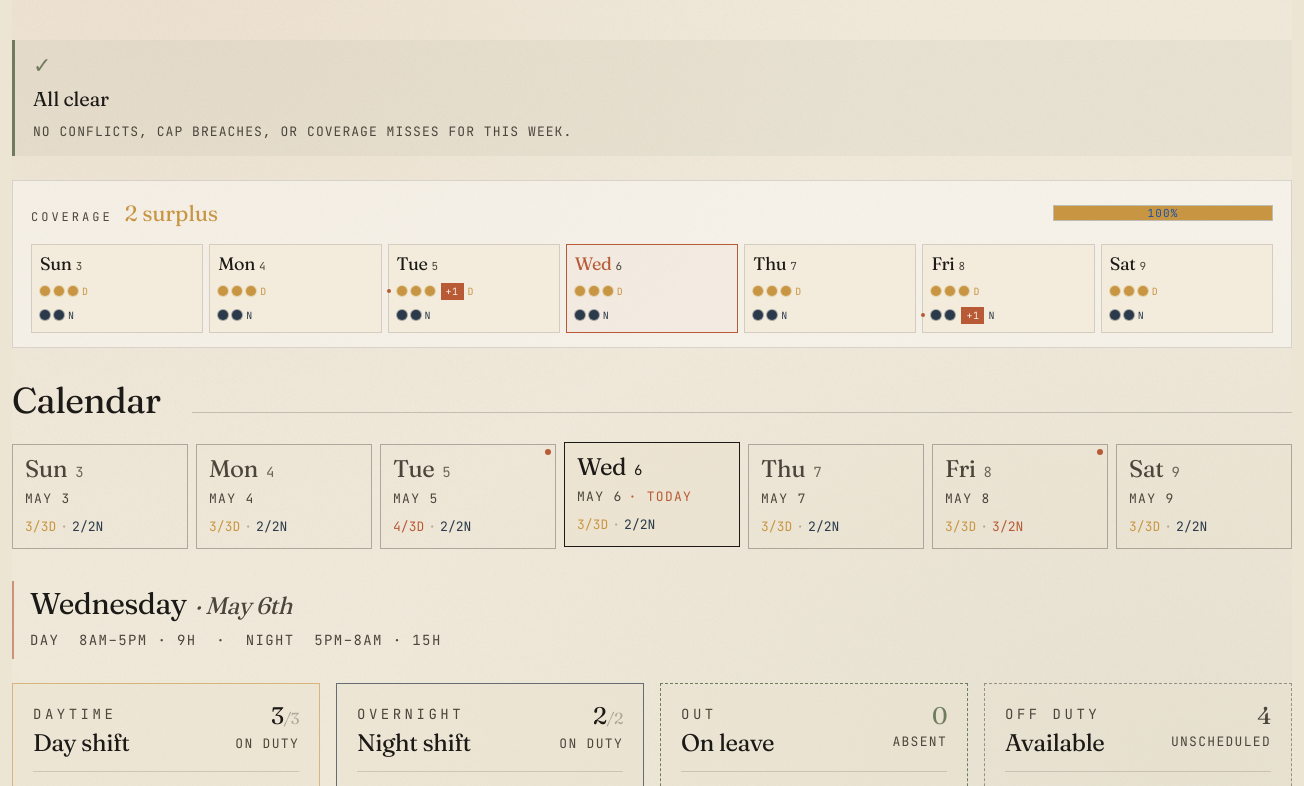
Test: <CalendarPanel /> › clicking a day in the strip switches the detail view
Default selects today (or Mon if no match). Click Friday.
What coordinates should you click on to do the following:
click the button "Fri 8 D +1 N"
I would click on:
 (1009, 288)
Its box is top-left (922, 244), bottom-right (1095, 333).
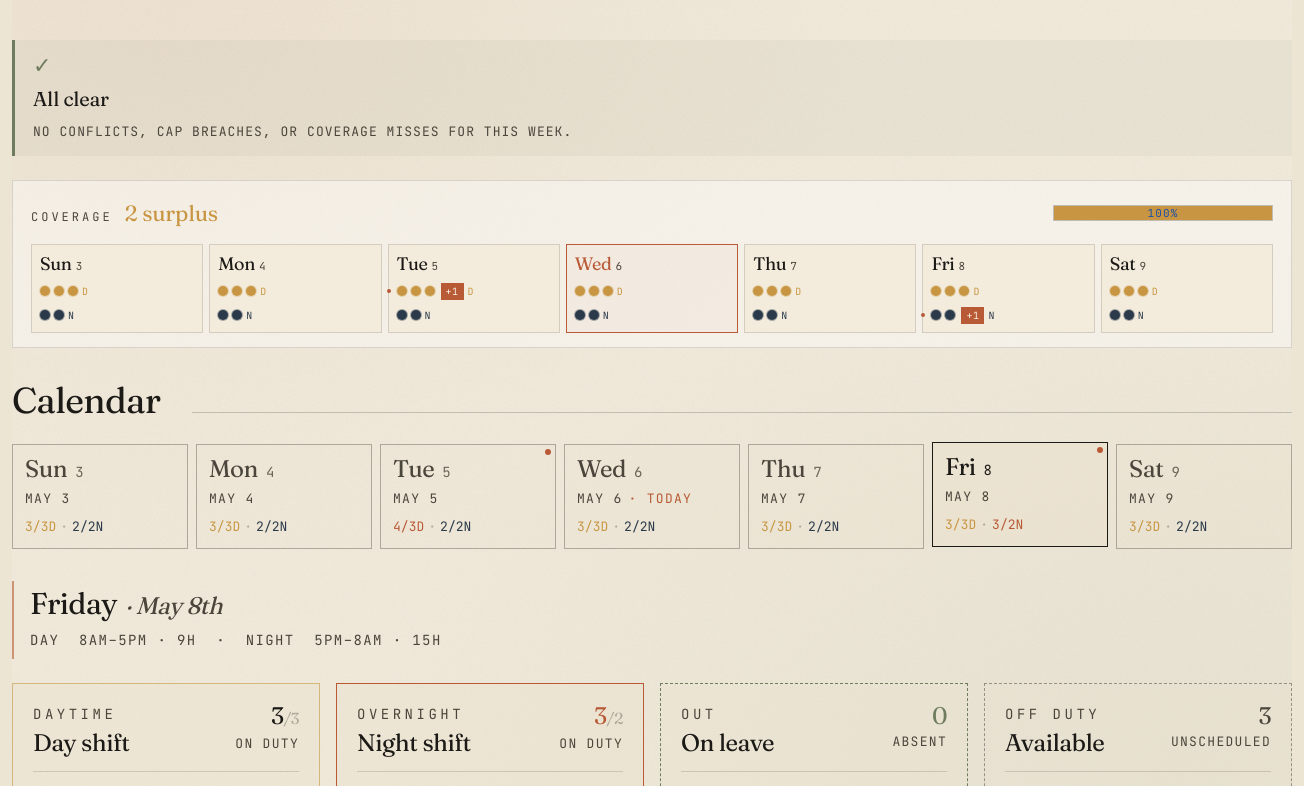
Expected: the text "Friday· May 8th" is shown, top-left (30, 585), bottom-right (222, 622)
